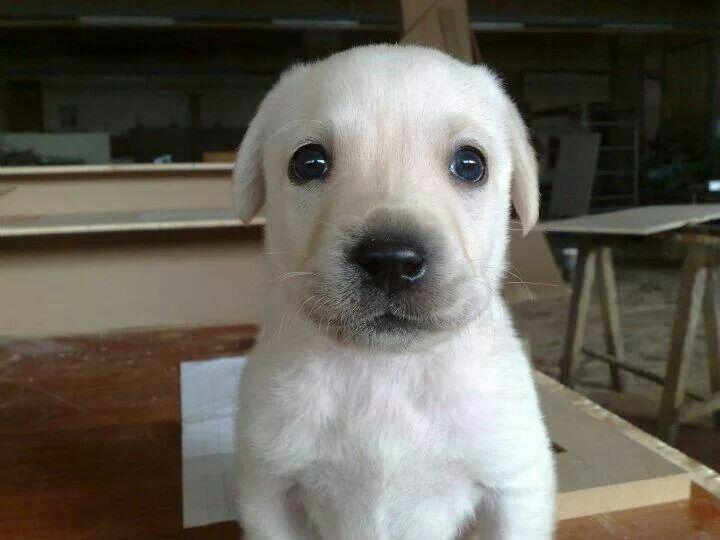puppy-dog: (225, 44, 561, 535)
